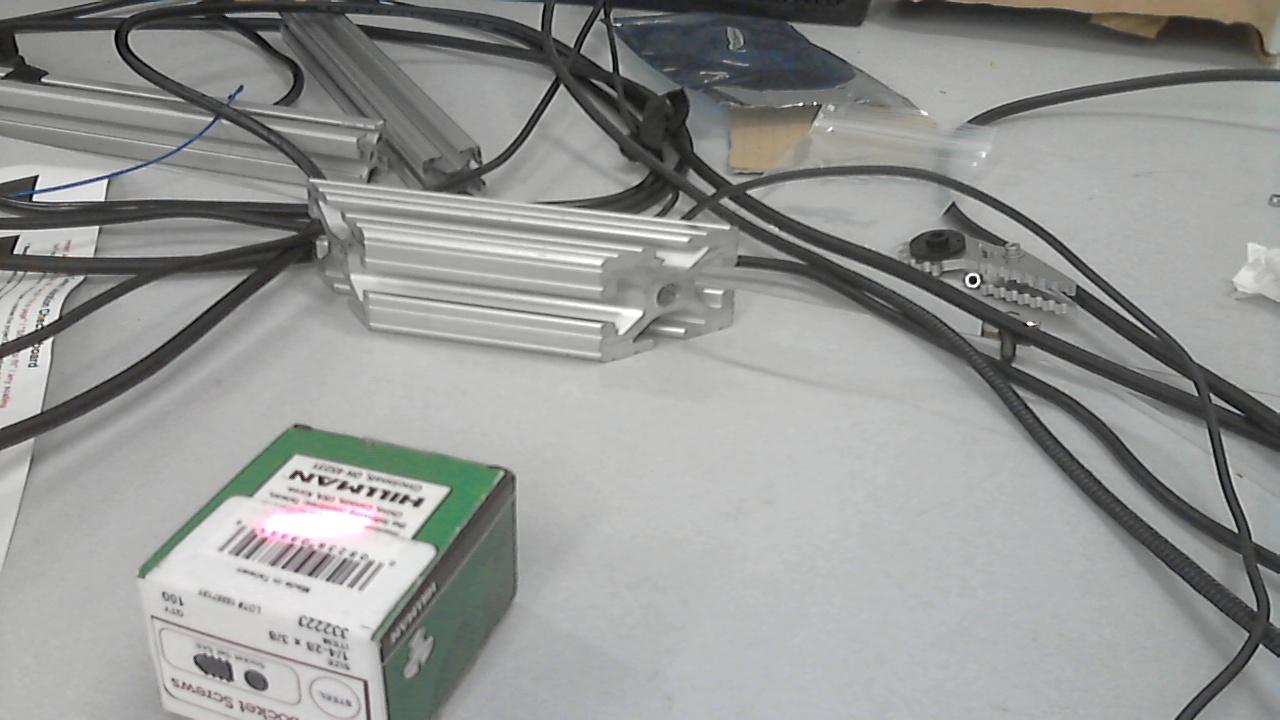Object screw packaging box - Material cardboard - Pdfname VgpKnmoKJfrS: (241, 504, 413, 558)
